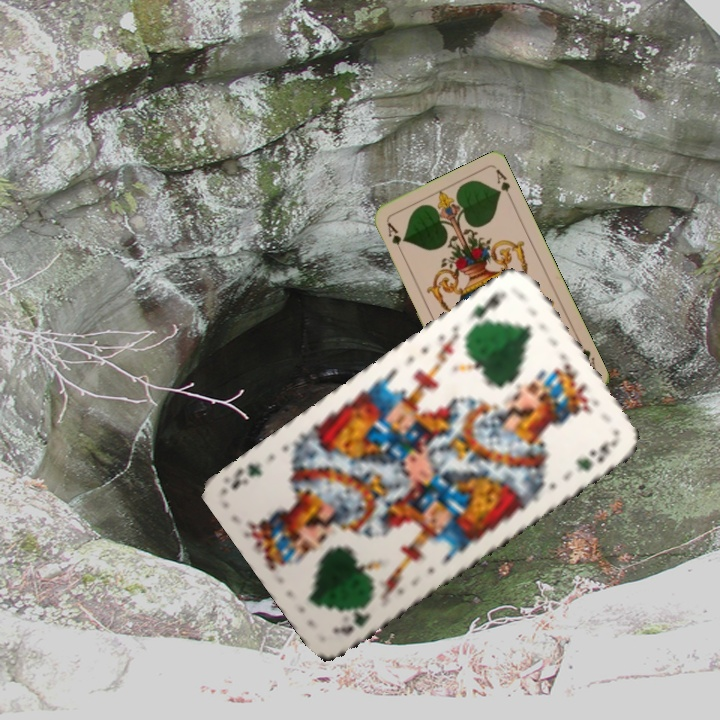GA: (383, 218, 406, 256)
GK: (329, 600, 374, 638), (463, 287, 509, 324)
